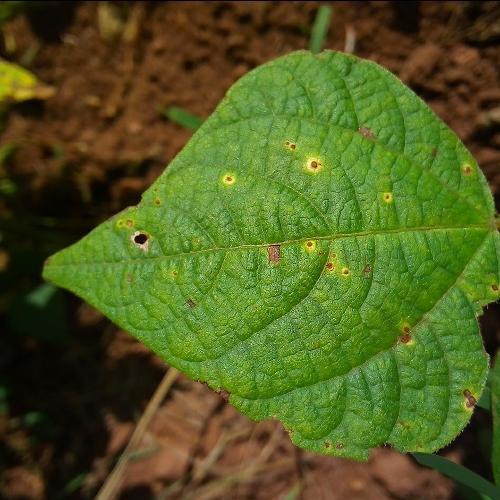hawar: (194, 124, 416, 302), (121, 198, 171, 288)
